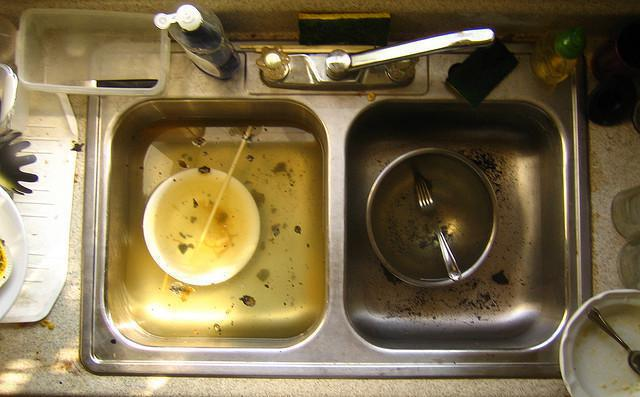Lavaplatos: (73, 40, 599, 378)
